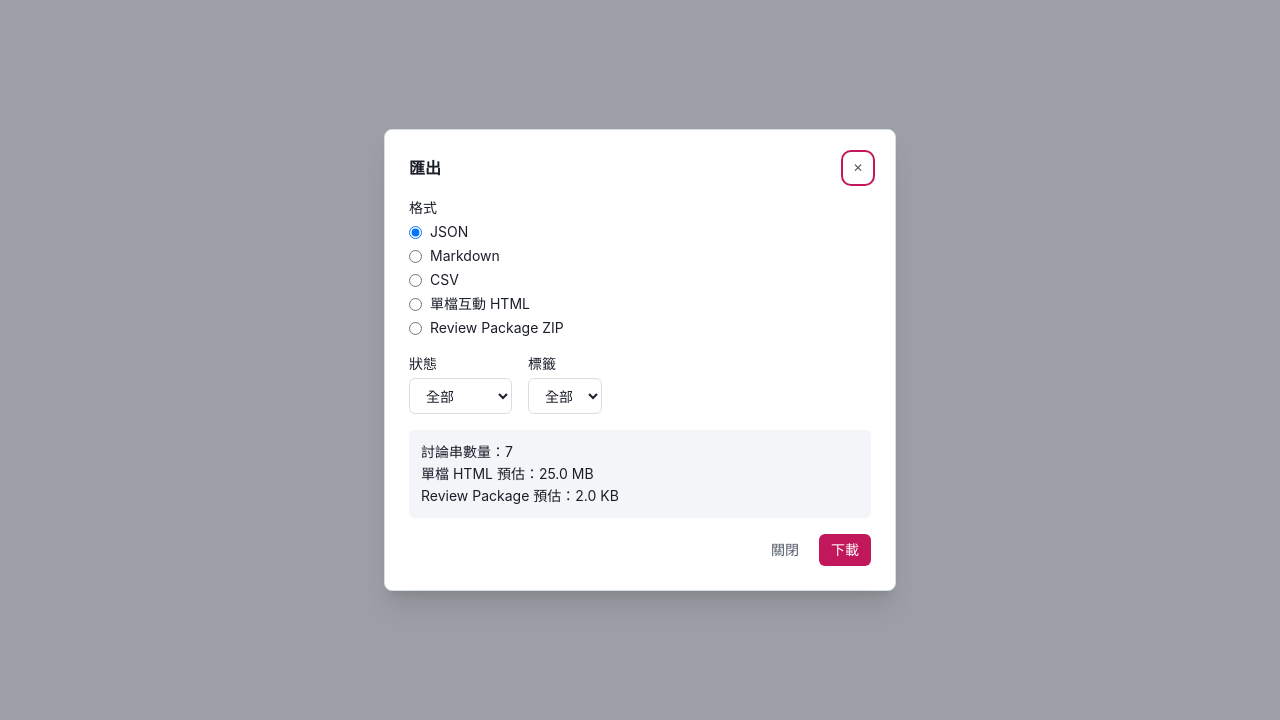
Test: ExportDialog › falls back to default filename and maps errors
Click the radio button labelled "Review Package ZIP".
click(416, 328)  # box x1=409 y1=322 x2=422 y2=334
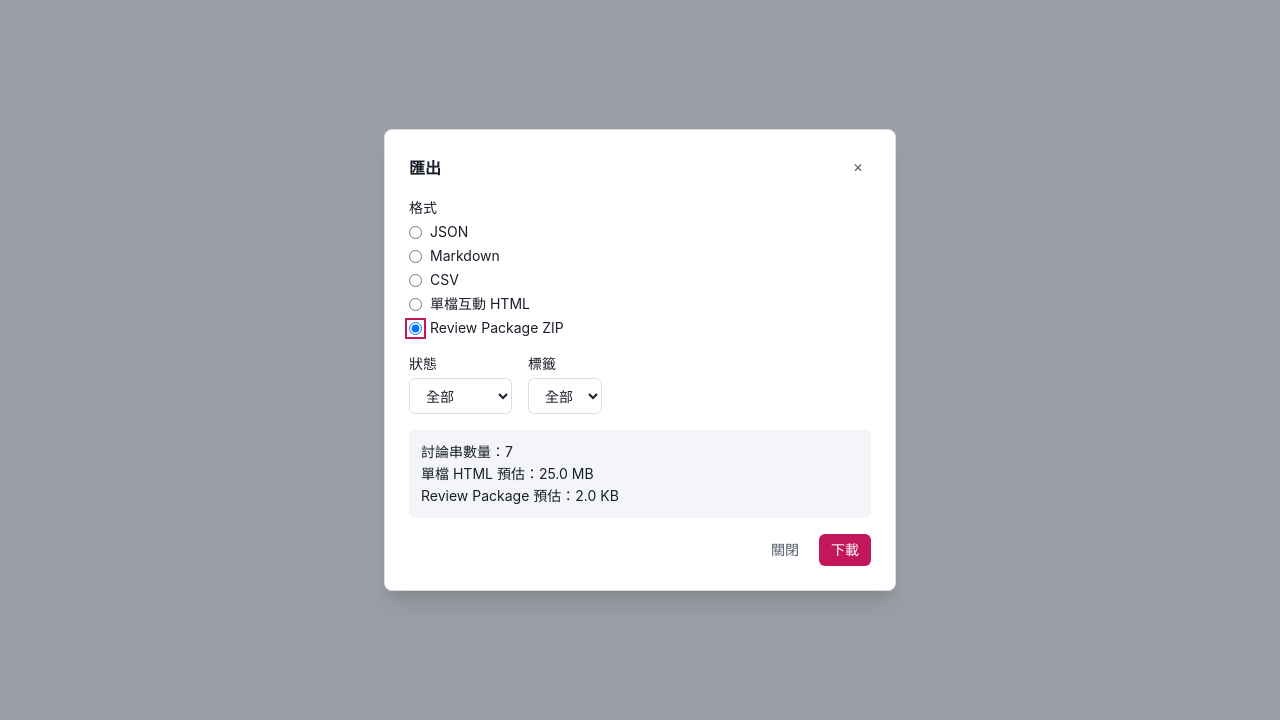
Click the button "下載".
click(845, 550)  # box x1=819 y1=534 x2=871 y2=566
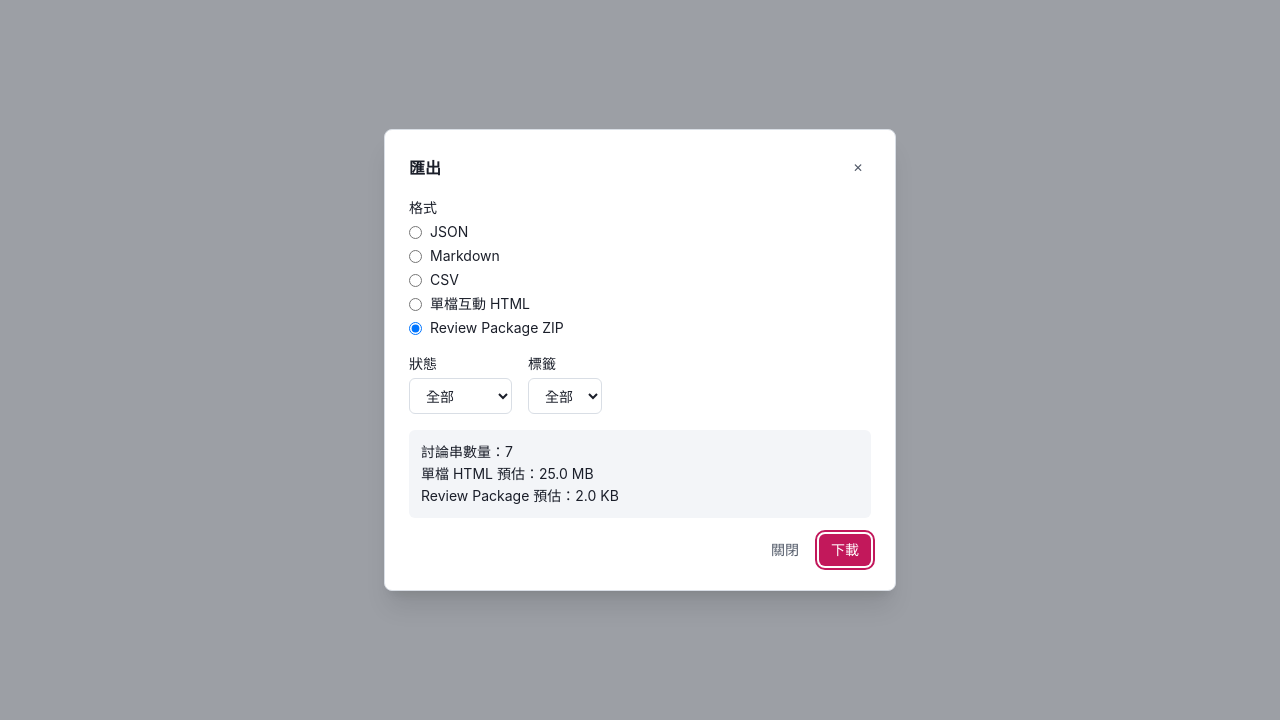
Click the button "下載".
click(845, 550)  # box x1=819 y1=534 x2=871 y2=566
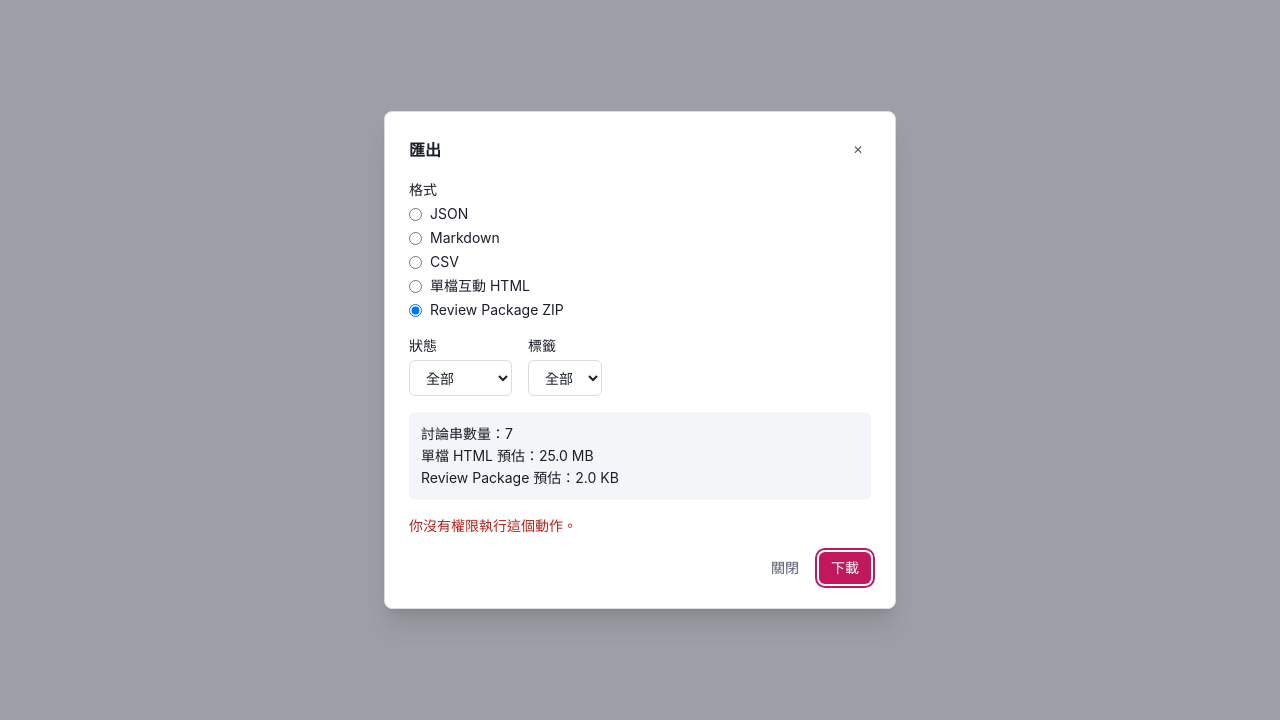
Expected: the text "你沒有權限執行這個動作。" is shown, x1=409 y1=517 x2=577 y2=534
